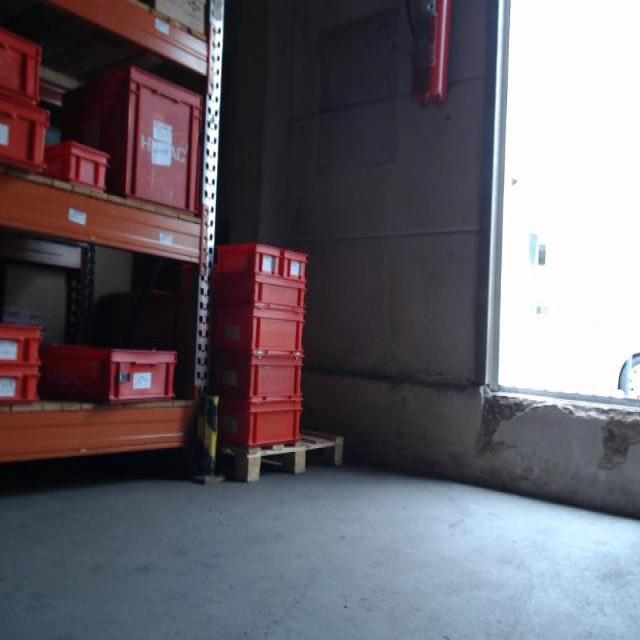pallet: (213, 431, 343, 485)
small_load_carrier: (59, 59, 206, 219), (46, 345, 174, 402), (216, 392, 304, 455), (0, 100, 56, 185), (206, 308, 304, 355), (40, 139, 111, 193), (206, 353, 304, 392), (3, 22, 46, 107), (210, 234, 281, 283), (206, 278, 308, 307), (2, 312, 47, 367), (1, 368, 48, 409), (275, 244, 309, 279)
